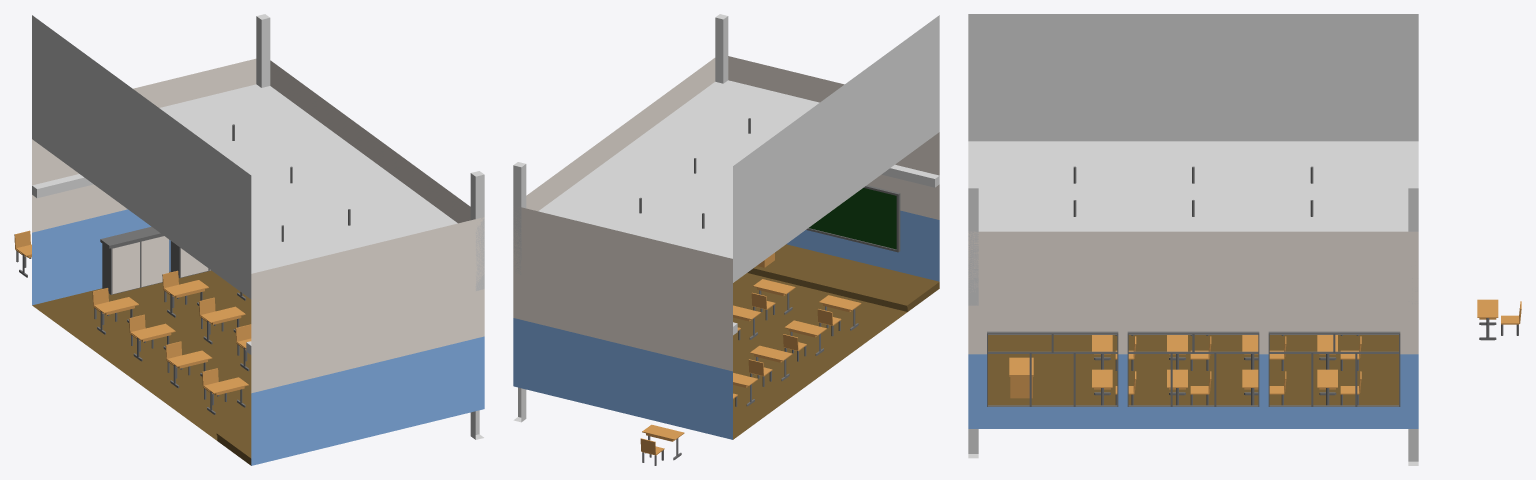
The picture shows the model from 3 angles, left to right: view 1: azimuth 30°, elevation 25°; view 2: azimuth 150°, elevation 25°; view 3: azimuth 270°, elevation 25°; orthographic projection. The views are drawn at different scales.
Parts seen in each view (by area): view 1: roof, wall2, Floor, wall1, table_student, wall_holes, shelves, wall_reinforce, table_student_single; view 2: roof, wall1, Floor, wall2, wall_holes, table_student, wall_boad, wall_reinforce, table_student_single; view 3: roof, wall_holes, Floor, table_student, wall_window_frame, wall_reinforce, table_main, table_student_single.
Part boxes in pixels (box(x1,y1,x2,y2)): roof: box(32, 15, 457, 299); wall2: box(251, 217, 484, 465); Floor: box(32, 270, 251, 465); wall1: box(32, 58, 256, 305); table_student: box(92, 270, 251, 414); wall_holes: box(270, 60, 470, 223); shelves: box(100, 226, 211, 294); wall_reinforce: box(32, 14, 484, 439); table_student_single: box(14, 230, 31, 277); roof: box(538, 15, 939, 282); wall1: box(513, 207, 732, 439); Floor: box(733, 244, 939, 439); wall2: box(728, 56, 939, 281); wall_holes: box(526, 58, 715, 211); table_student: box(733, 279, 861, 406); wall_boad: box(806, 185, 900, 252); wall_reinforce: box(513, 14, 939, 422); table_student_single: box(640, 424, 684, 465); roof: box(968, 14, 1418, 231); wall_holes: box(968, 231, 1418, 428); Floor: box(988, 335, 1398, 405); table_student: box(1092, 335, 1361, 405); wall_window_frame: box(987, 331, 1400, 406); wall_reinforce: box(968, 183, 1418, 465); table_main: box(1009, 357, 1033, 398); table_student_single: box(1477, 299, 1521, 340).
Size of the model in its own units: 815 by 1071 by 1601.
